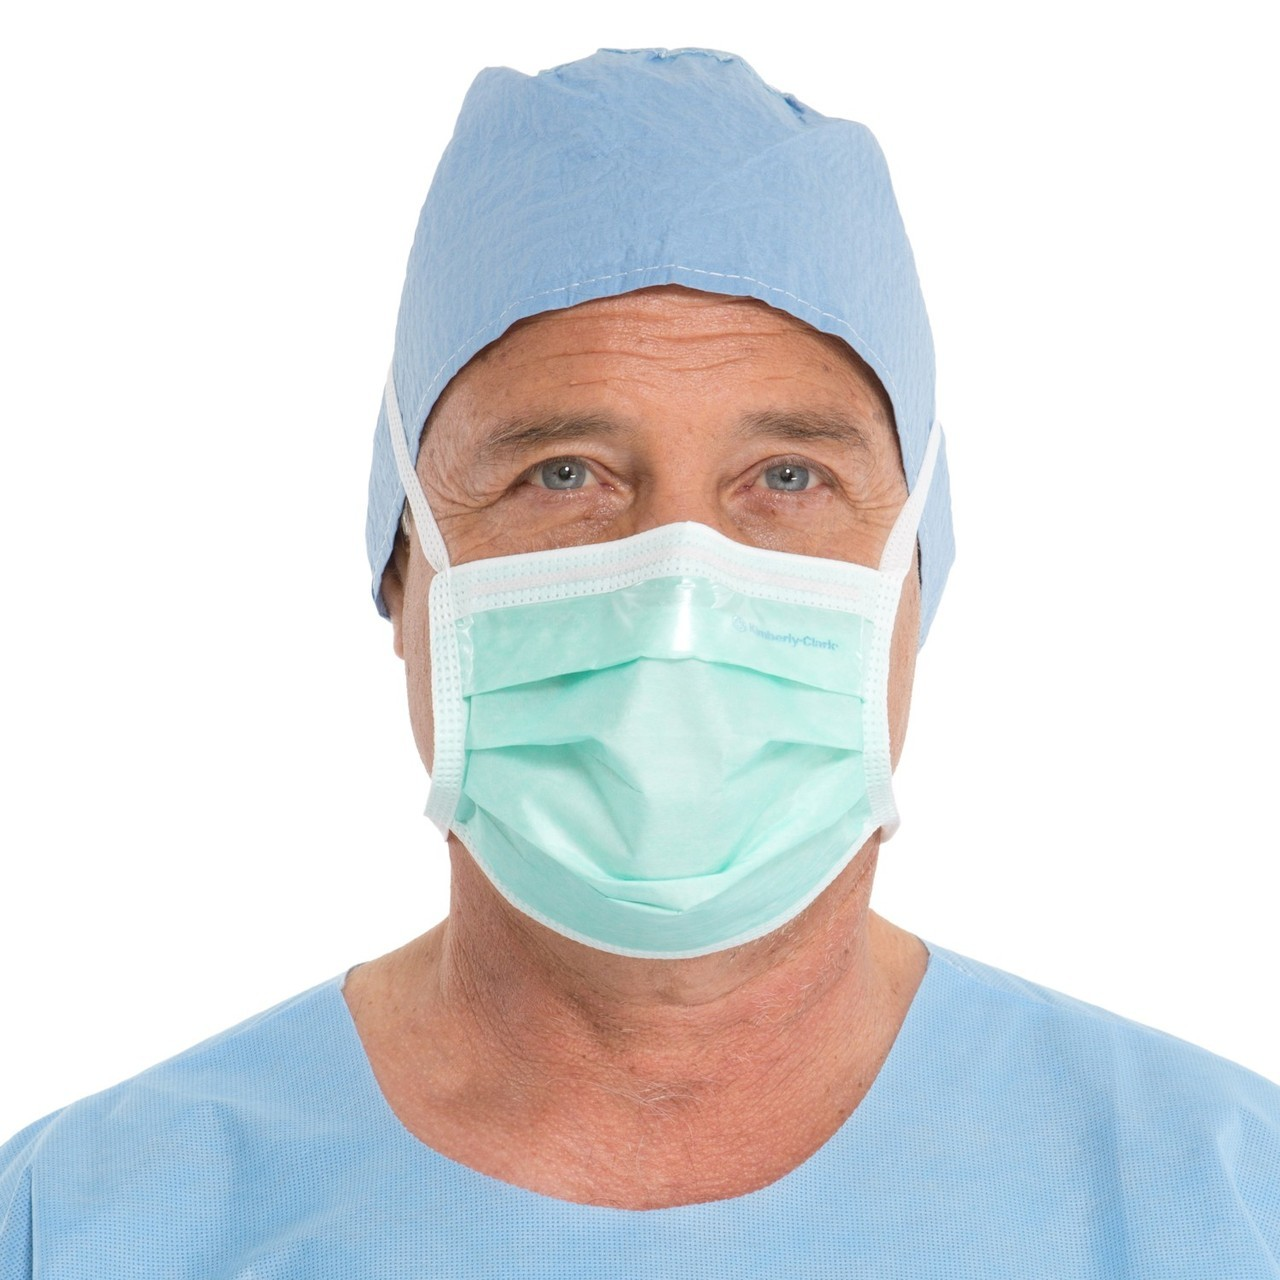mask: (414, 581, 928, 913)
